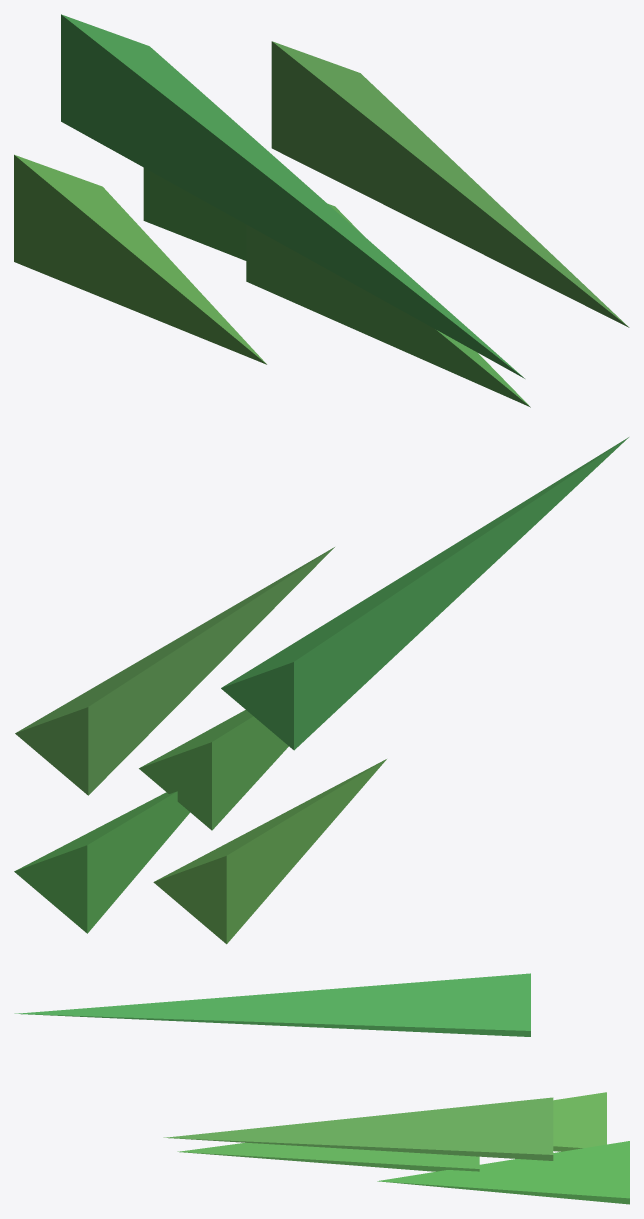
Rendered from grass_clump.glb.
3 renders of one model, top to bottom at view 1: azimuth 30°, elevation 25°; view 2: azimuth 150°, elevation 25°; view 3: azimuth 270°, elevation 25°, orthographic. The views are drawn at different scales.
Visible parts, largest first — view 1: world; view 2: world; view 3: world.
Boxes of the visible parts, x1=… form: world: x1=14, y1=14, x2=629, y2=407; world: x1=14, y1=437, x2=628, y2=944; world: x1=14, y1=973, x2=629, y2=1204.
Size of the model in its own units: 0.2691 by 0.2488 by 0.7593.
